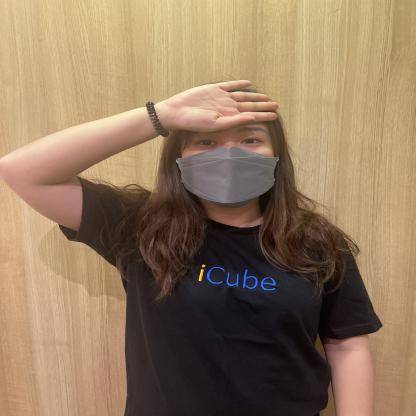Sick: (107, 69, 288, 141)
